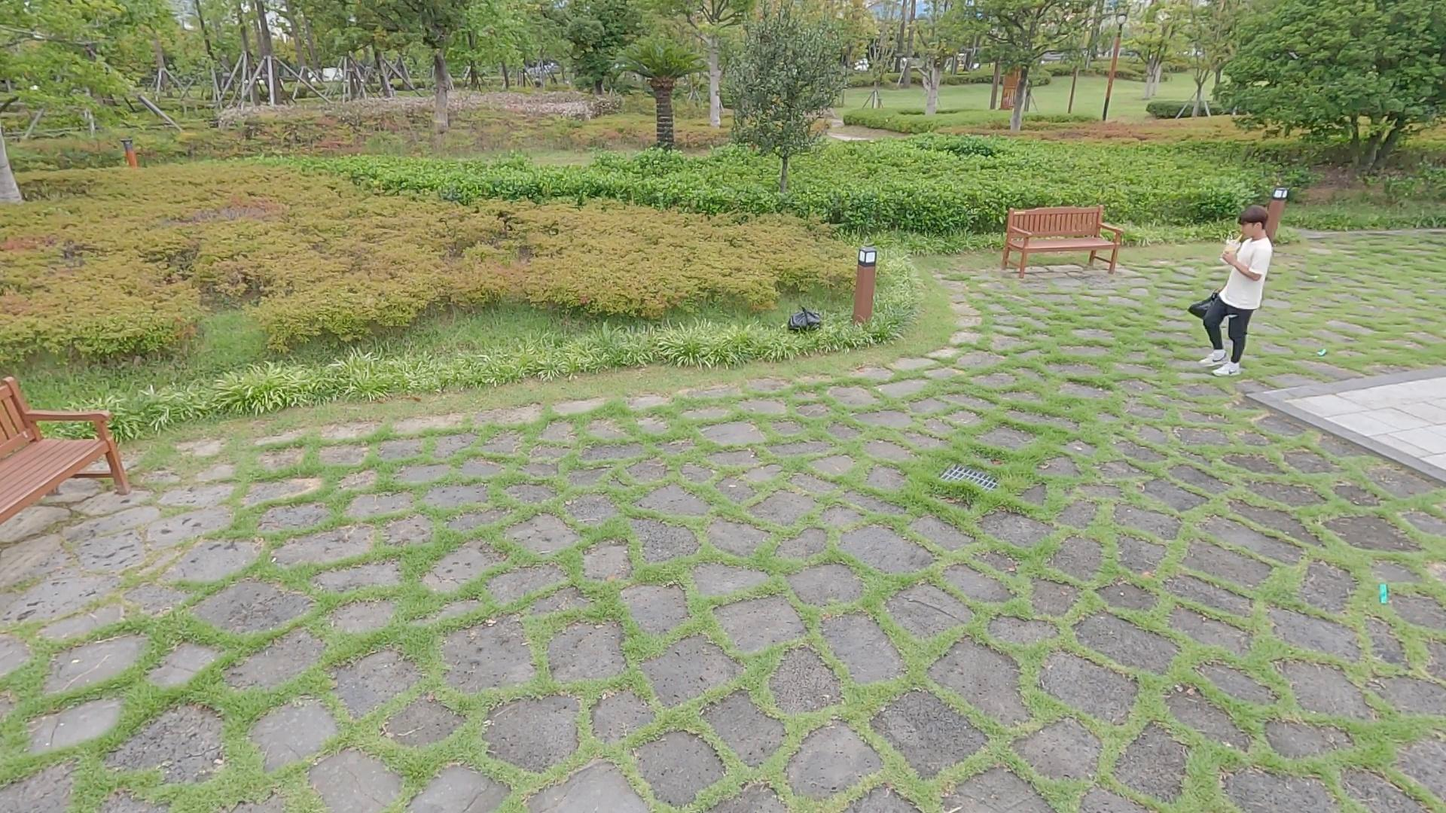person: (1199, 206, 1272, 377)
trash: (1187, 290, 1220, 321), (788, 307, 822, 334), (1226, 231, 1240, 264)
